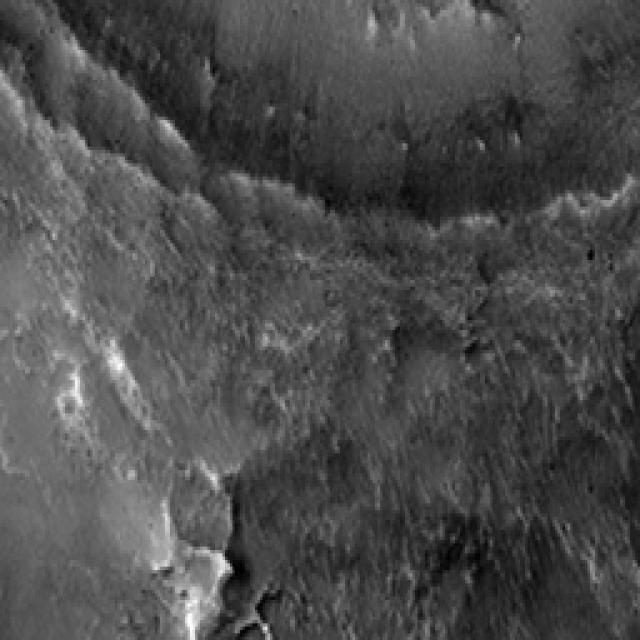Crater: (0, 0, 640, 237)
